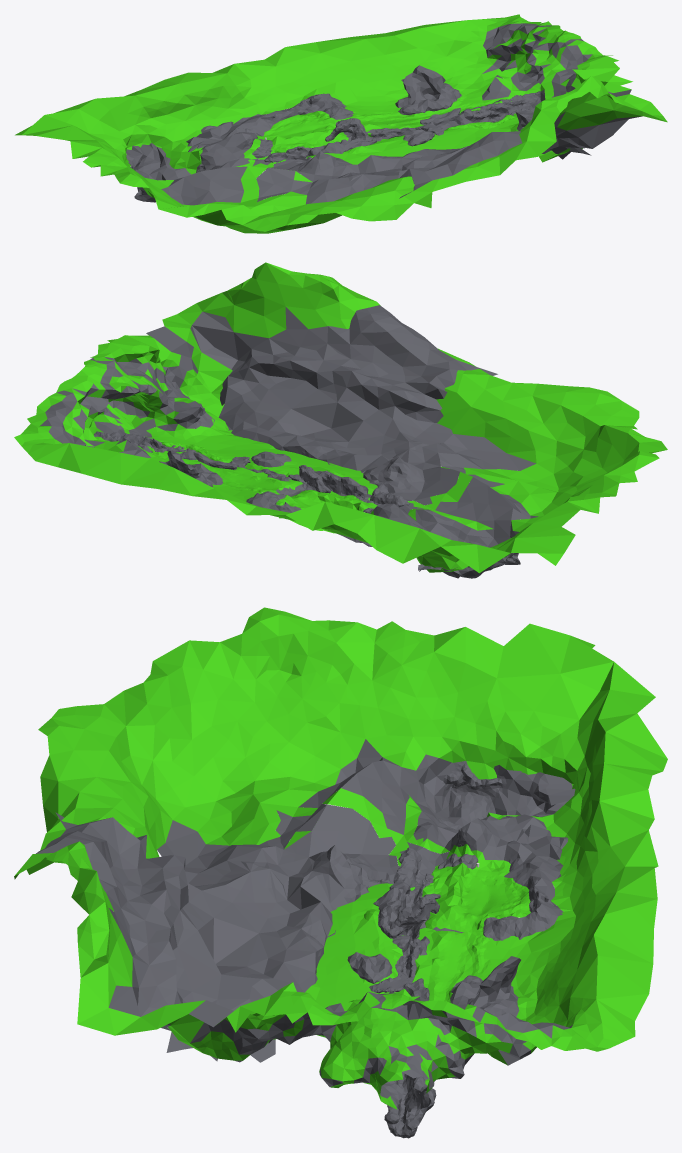
File: Tutorial Forest DETAILED.fbx
The picture shows the model from 3 angles, top to bottom: view 1: azimuth 30°, elevation 25°; view 2: azimuth 150°, elevation 25°; view 3: azimuth 270°, elevation 25°; orthographic projection. The views are drawn at different scales.
Parts seen in each view (by area): view 1: Plane.009, Plane.001, Icosphere, Icosphere.001; view 2: Plane.009, Plane.001, Icosphere, Icosphere.001; view 3: Plane.009, Plane.001, Icosphere, Icosphere.001.
Part boxes in pixels (x1,y1,x2,y2): Plane.009: [15, 14, 667, 233]; Plane.001: [126, 23, 641, 205]; Icosphere: [264, 118, 406, 162]; Icosphere.001: [454, 91, 541, 124]; Plane.009: [14, 262, 667, 573]; Plane.001: [40, 305, 538, 578]; Icosphere: [252, 465, 409, 507]; Icosphere.001: [94, 431, 206, 459]; Plane.009: [14, 607, 667, 1109]; Plane.001: [36, 739, 575, 1099]; Icosphere: [373, 847, 440, 976]; Icosphere.001: [383, 1072, 436, 1138].
Size of the model in its own units: 66777 by 15972 by 44793.
